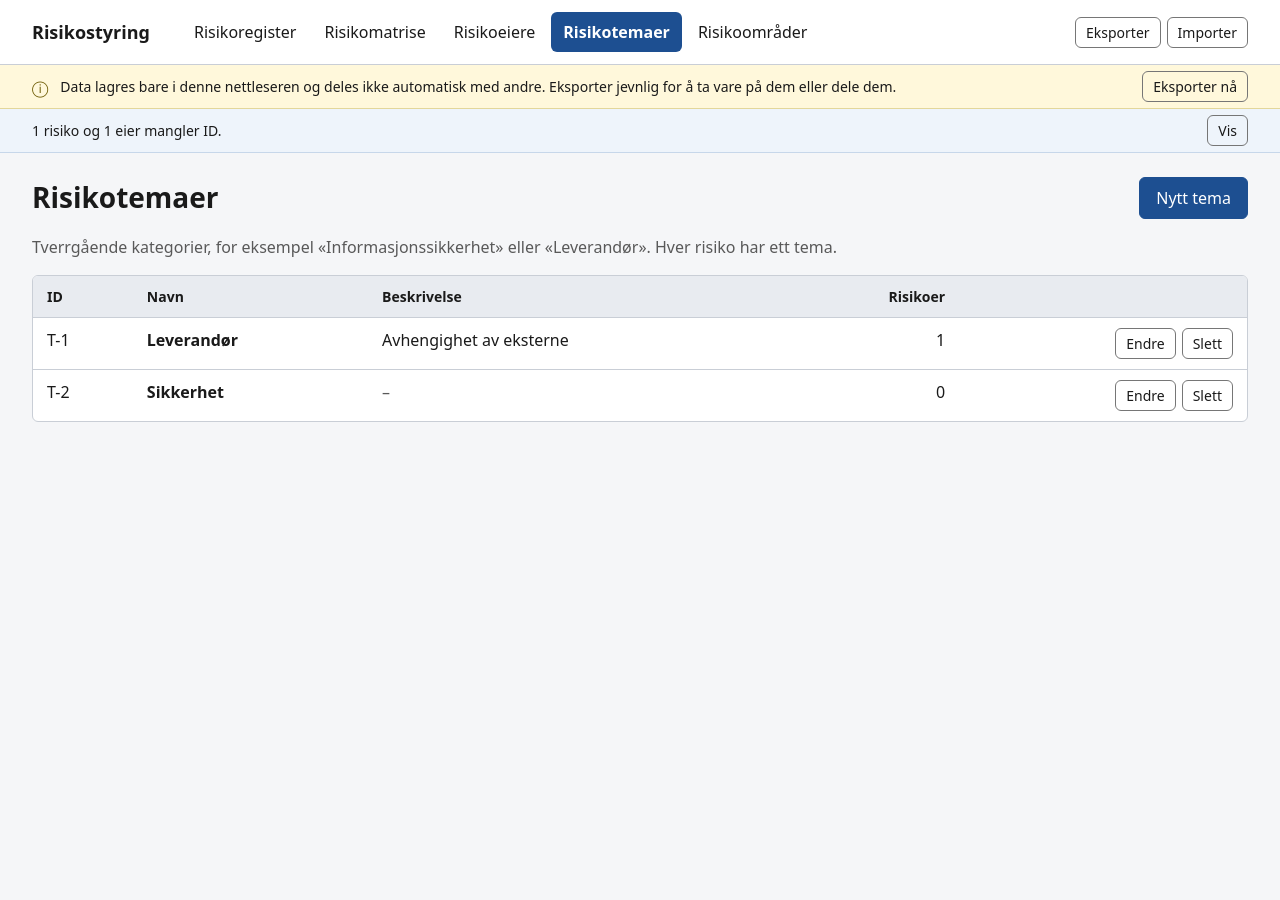
it: Risikotemaer › sperrer sletting av element i bruk
Expected: the heading "Risikotemaer" is shown, left=32, top=181, right=218, bottom=215
Click the button with aria-label "Slett Leverandør" at (1207, 344), box left=1182, top=328, right=1233, bottom=359
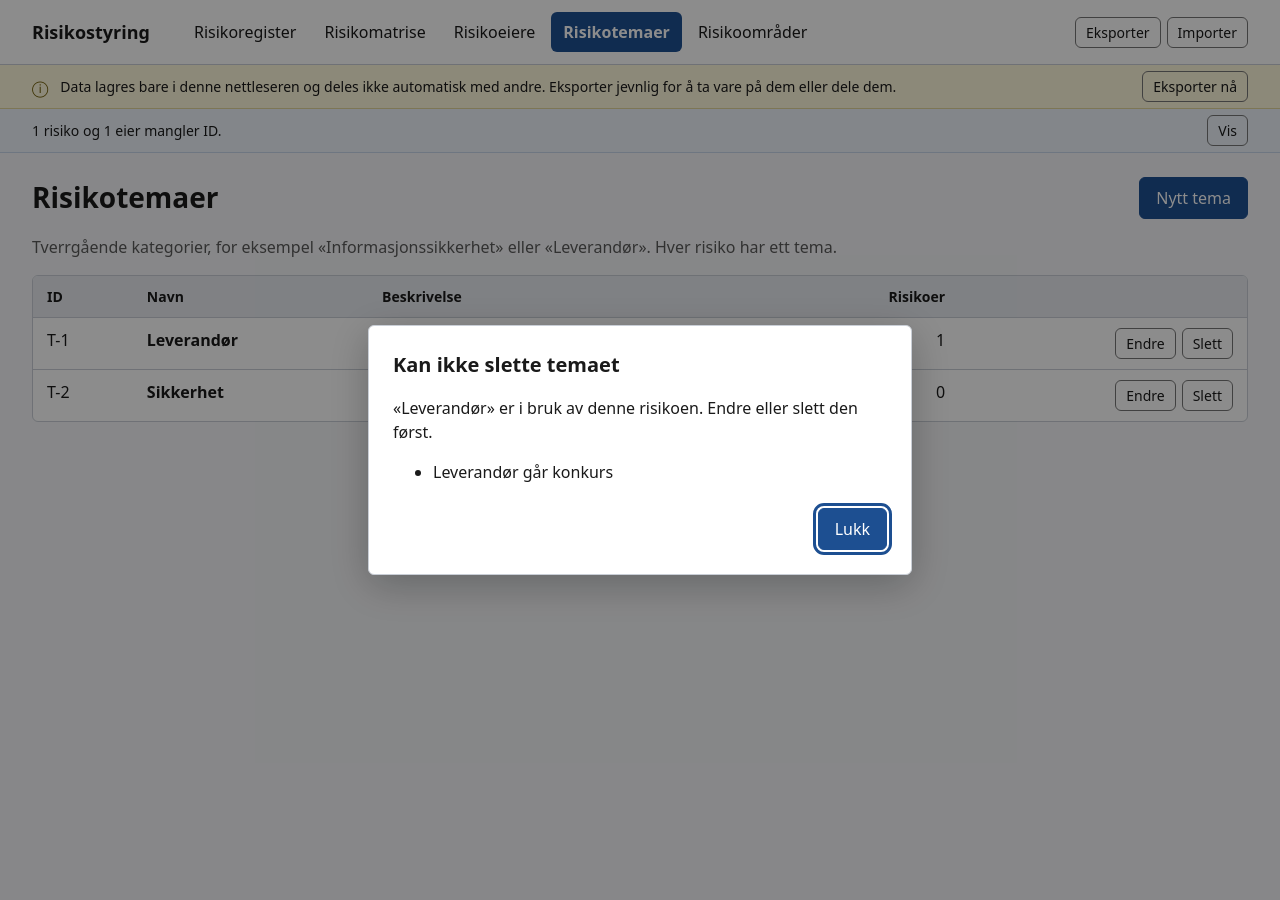
Expected: the list item reads "Leverandør går konkurs", left=433, top=461, right=613, bottom=483
